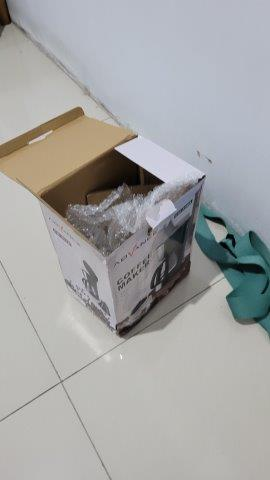kardus: (2, 107, 205, 335)
